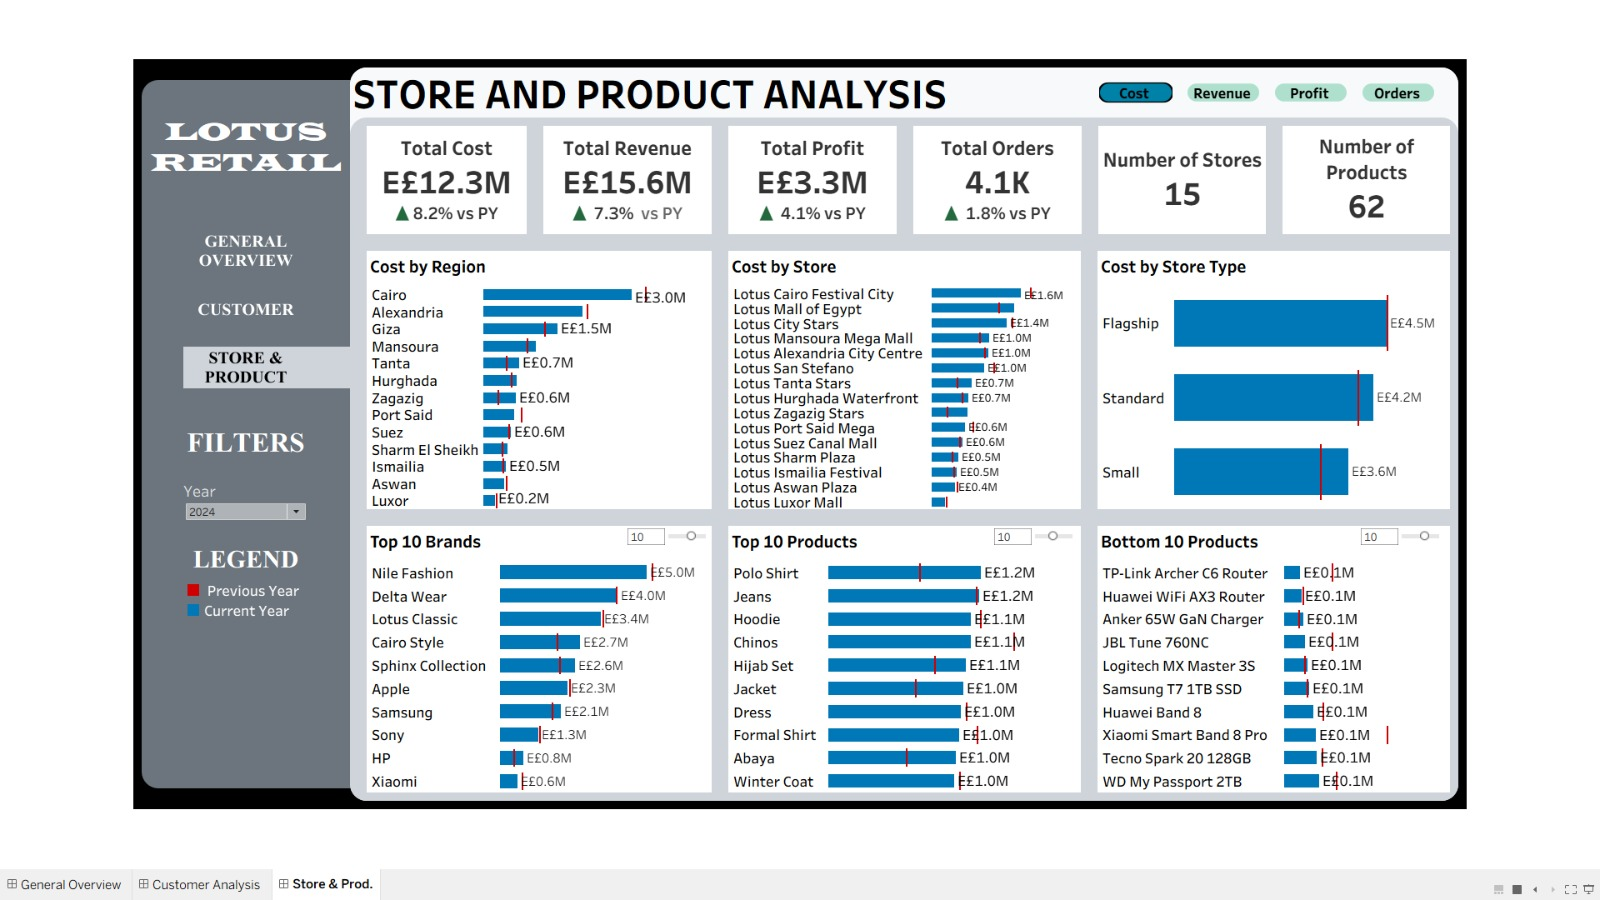

This screenshot's page, from the dashboard's own definition file:
{"tool":"tableau","page":{"name":"Store & Prod.","canvas":[1600,900],"ordinal":2},"visuals":[{"type":"text","box":[260,10,890,60]},{"type":"worksheet","title":"Buttons","mark":"Shape","cols":["Calculation_0874970443321350","Calculation_0874970443321350","Calculation_0874970443321350","Calculation_0874970443321350"],"box":[1150,10,420,60]},{"type":"blank","box":[10,25,250,10]},{"type":"text","box":[10,35,250,140]},{"type":"worksheet","title":"Cost","mark":"Automatic","box":[280,80,192,130]},{"type":"worksheet","title":"Rev.","mark":"Automatic","box":[492,80,202,130]},{"type":"worksheet","title":"Profit","mark":"Automatic","box":[714,80,202,130]},{"type":"worksheet","title":"Orders","mark":"Automatic","box":[936,80,202,130]},{"type":"worksheet","title":"No. of Store","mark":"Automatic","box":[1158,80,201,130]},{"type":"worksheet","title":"No. of Products","mark":"Automatic","box":[1379,80,201,130]},{"type":"blank","box":[10,175,250,30]},{"type":"dashboard-object","box":[60,205,150,50]},{"type":"worksheet","title":"Region Anal.","mark":"Automatic","rows":["city (dim_stores.csv)"],"cols":["Calculation_0373592491970560","Calculation_0373592493252610"],"box":[280,230,414,310]},{"type":"worksheet","title":"Store Anal.","mark":"Automatic","rows":["store_name"],"cols":["Calculation_0373592491970560","Calculation_0373592493252610"],"box":[714,230,423,310]},{"type":"worksheet","title":"Store Type","mark":"Automatic","rows":["store_type"],"cols":["Calculation_0373592491970560","Calculation_0373592493252610"],"box":[1157,230,423,310]},{"type":"blank","box":[10,255,250,20]},{"type":"dashboard-object","box":[60,275,150,50]},{"type":"blank","box":[10,325,250,20]},{"type":"dashboard-object","box":[60,345,200,50]},{"type":"blank","box":[10,395,250,50]},{"type":"text","box":[10,445,250,30]},{"type":"blank","box":[10,475,250,30]},{"type":"parameter","param":"[Parameters].[Parameter 1297182227197959]","box":[60,505,150,50]},{"type":"blank","box":[10,555,250,30]},{"type":"worksheet","title":"Top Brands","mark":"Automatic","rows":["brand"],"cols":["Calculation_0373592491970560","Calculation_0373592493252610"],"box":[280,560,414,320]},{"type":"parameter","param":"[Parameters].[Parameter 1225439447101457]","box":[590,560,100,35]},{"type":"worksheet","title":"Top Products","mark":"Automatic","rows":["product_name_raw"],"cols":["Calculation_0373592491970560","Calculation_0373592493252610"],"box":[714,560,423,320]},{"type":"parameter","param":"[Parameters].[Parameter 1225439438880779]","box":[1030,560,100,35]},{"type":"worksheet","title":"Bottom Products","mark":"Automatic","rows":["product_name_raw"],"cols":["Calculation_0373592491970560","Calculation_0373592493252610"],"box":[1157,560,423,320]},{"type":"parameter","param":"[Parameters].[Parameter 1225439448928274]","box":[1470,560,100,35]},{"type":"text","box":[10,585,250,30]},{"type":"blank","box":[10,615,250,10]},{"type":"legend","title":"Top Brands","param":"[federated.0mt75gr1jol0vg19zrq0202gwl9p].[:Measure Names]","box":[60,625,150,50]}]}

Visuals, with their boxes on the page's 1600x900 design canvas (x1, y1, x2, y2). These are canvas units, not pixel positions in the 1600x900 screenshot, which may show the page scaled, cropped or inside an application window:
text: <bbox>260, 10, 1150, 70</bbox>
"Buttons" worksheet (Shape marks): <bbox>1150, 10, 1570, 70</bbox>
blank: <bbox>10, 25, 260, 35</bbox>
text: <bbox>10, 35, 260, 175</bbox>
"Cost" worksheet: <bbox>280, 80, 472, 210</bbox>
"Rev." worksheet: <bbox>492, 80, 694, 210</bbox>
"Profit" worksheet: <bbox>714, 80, 916, 210</bbox>
"Orders" worksheet: <bbox>936, 80, 1138, 210</bbox>
"No. of Store" worksheet: <bbox>1158, 80, 1359, 210</bbox>
"No. of Products" worksheet: <bbox>1379, 80, 1580, 210</bbox>
blank: <bbox>10, 175, 260, 205</bbox>
dashboard-object: <bbox>60, 205, 210, 255</bbox>
"Region Anal." worksheet: <bbox>280, 230, 694, 540</bbox>
"Store Anal." worksheet: <bbox>714, 230, 1137, 540</bbox>
"Store Type" worksheet: <bbox>1157, 230, 1580, 540</bbox>
blank: <bbox>10, 255, 260, 275</bbox>
dashboard-object: <bbox>60, 275, 210, 325</bbox>
blank: <bbox>10, 325, 260, 345</bbox>
dashboard-object: <bbox>60, 345, 260, 395</bbox>
blank: <bbox>10, 395, 260, 445</bbox>
text: <bbox>10, 445, 260, 475</bbox>
blank: <bbox>10, 475, 260, 505</bbox>
parameter: <bbox>60, 505, 210, 555</bbox>
blank: <bbox>10, 555, 260, 585</bbox>
"Top Brands" worksheet: <bbox>280, 560, 694, 880</bbox>
parameter: <bbox>590, 560, 690, 595</bbox>
"Top Products" worksheet: <bbox>714, 560, 1137, 880</bbox>
parameter: <bbox>1030, 560, 1130, 595</bbox>
"Bottom Products" worksheet: <bbox>1157, 560, 1580, 880</bbox>
parameter: <bbox>1470, 560, 1570, 595</bbox>
text: <bbox>10, 585, 260, 615</bbox>
blank: <bbox>10, 615, 260, 625</bbox>
"Top Brands" legend: <bbox>60, 625, 210, 675</bbox>
